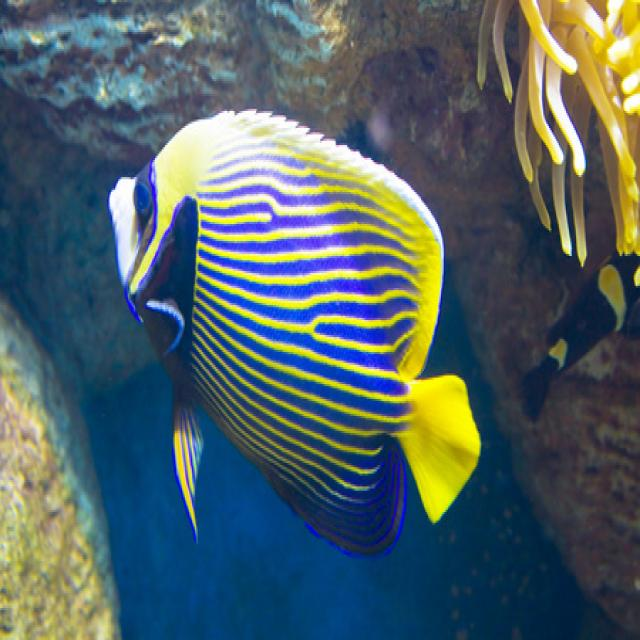AngelFish: (110, 108, 483, 522)
